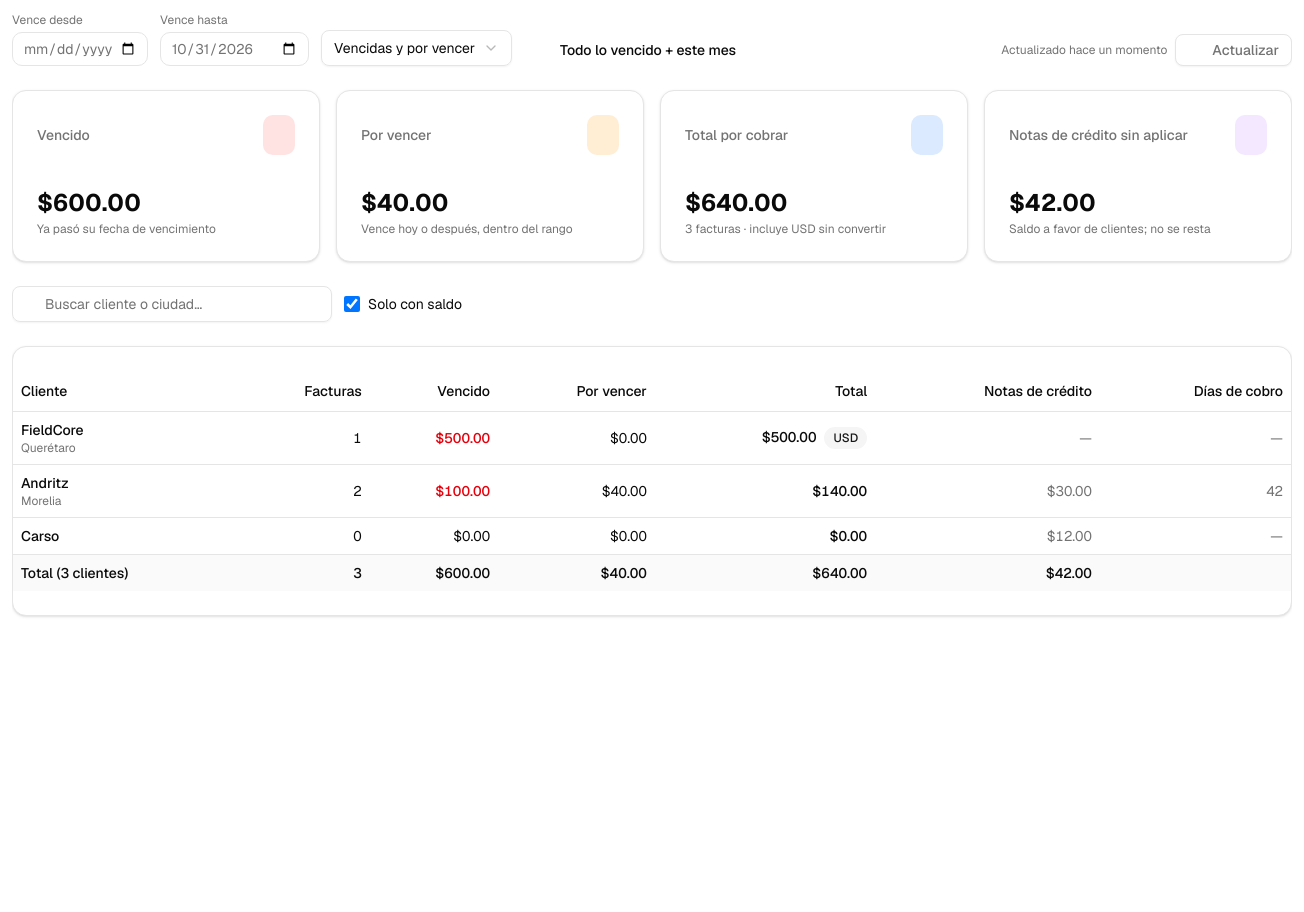
Scenario: CustomersList › por defecto esconde a quien no debe nada; al destildar "Solo con saldo" aparece
Expected: the links read "FieldCore", "Andritz", "Carso", in this order, left=21, top=420, right=84, bottom=438; left=21, top=474, right=69, bottom=492; left=21, top=526, right=59, bottom=544
Click the checkbox labelled "Solo con saldo" at (352, 304), box left=344, top=296, right=360, bottom=312
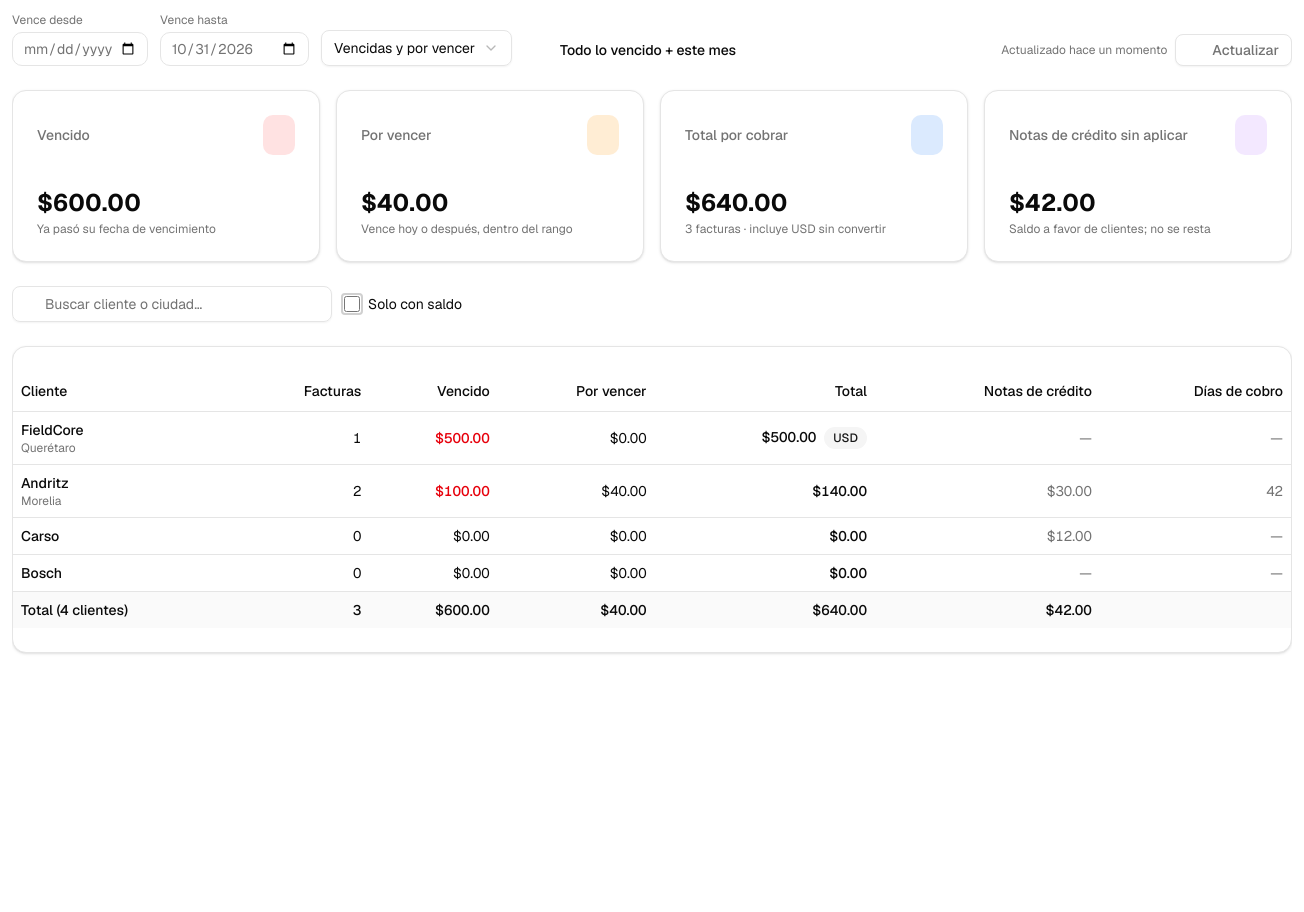
Result: the link "Bosch" is shown at left=21, top=564, right=62, bottom=582
